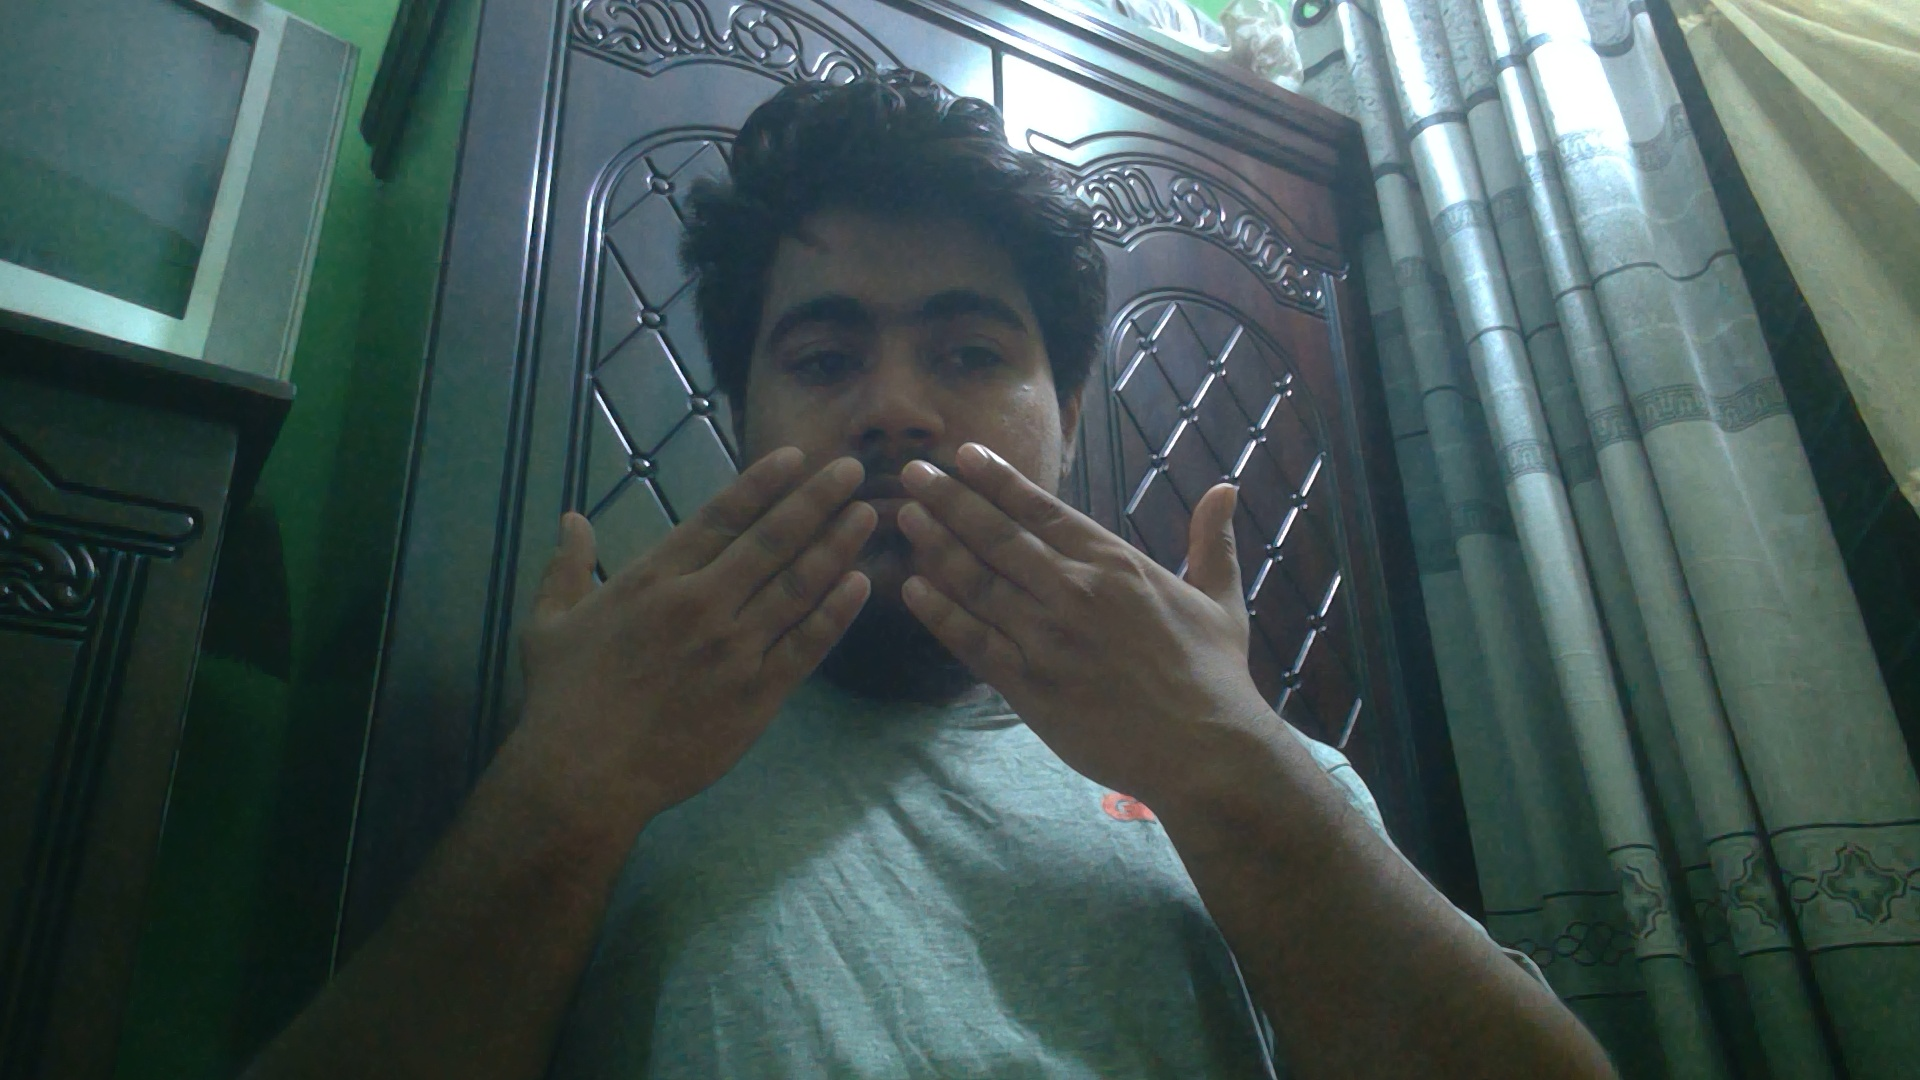thanks: (512, 430, 1261, 804)
